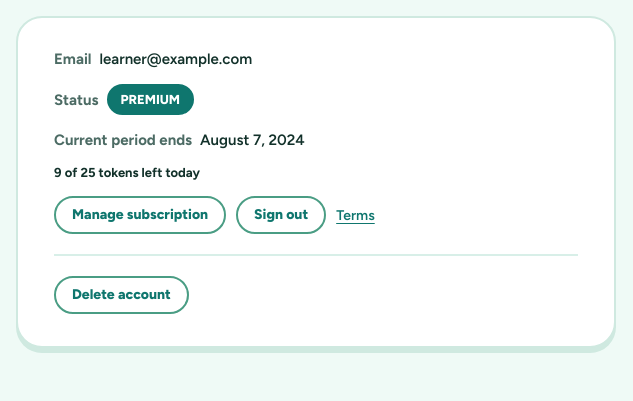
Test: AccountPageComponent › reports a failed sign-out without losing the account view
What coordinates should you click on to do the following:
click the button "Sign out"
I would click on:
 (281, 215)
Its box is [236,196,326,234].
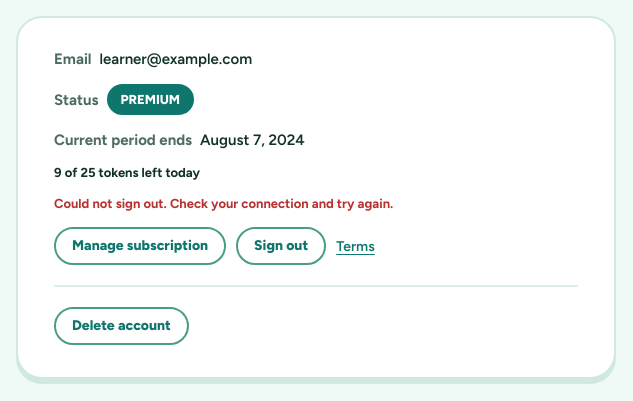
Now the text "Could not sign out" is shown, box [54,196,393,211]
